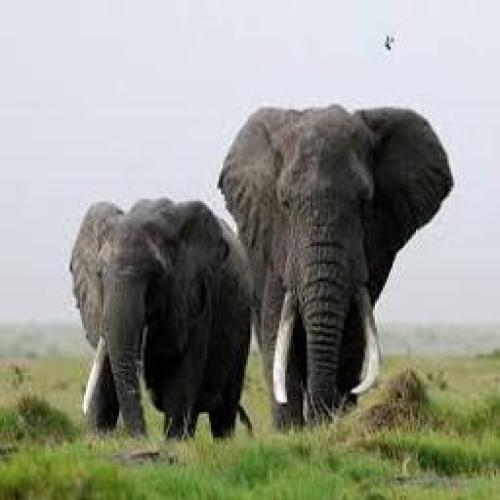african_elephant-endangered: (216, 106, 456, 429), (66, 195, 256, 440)
